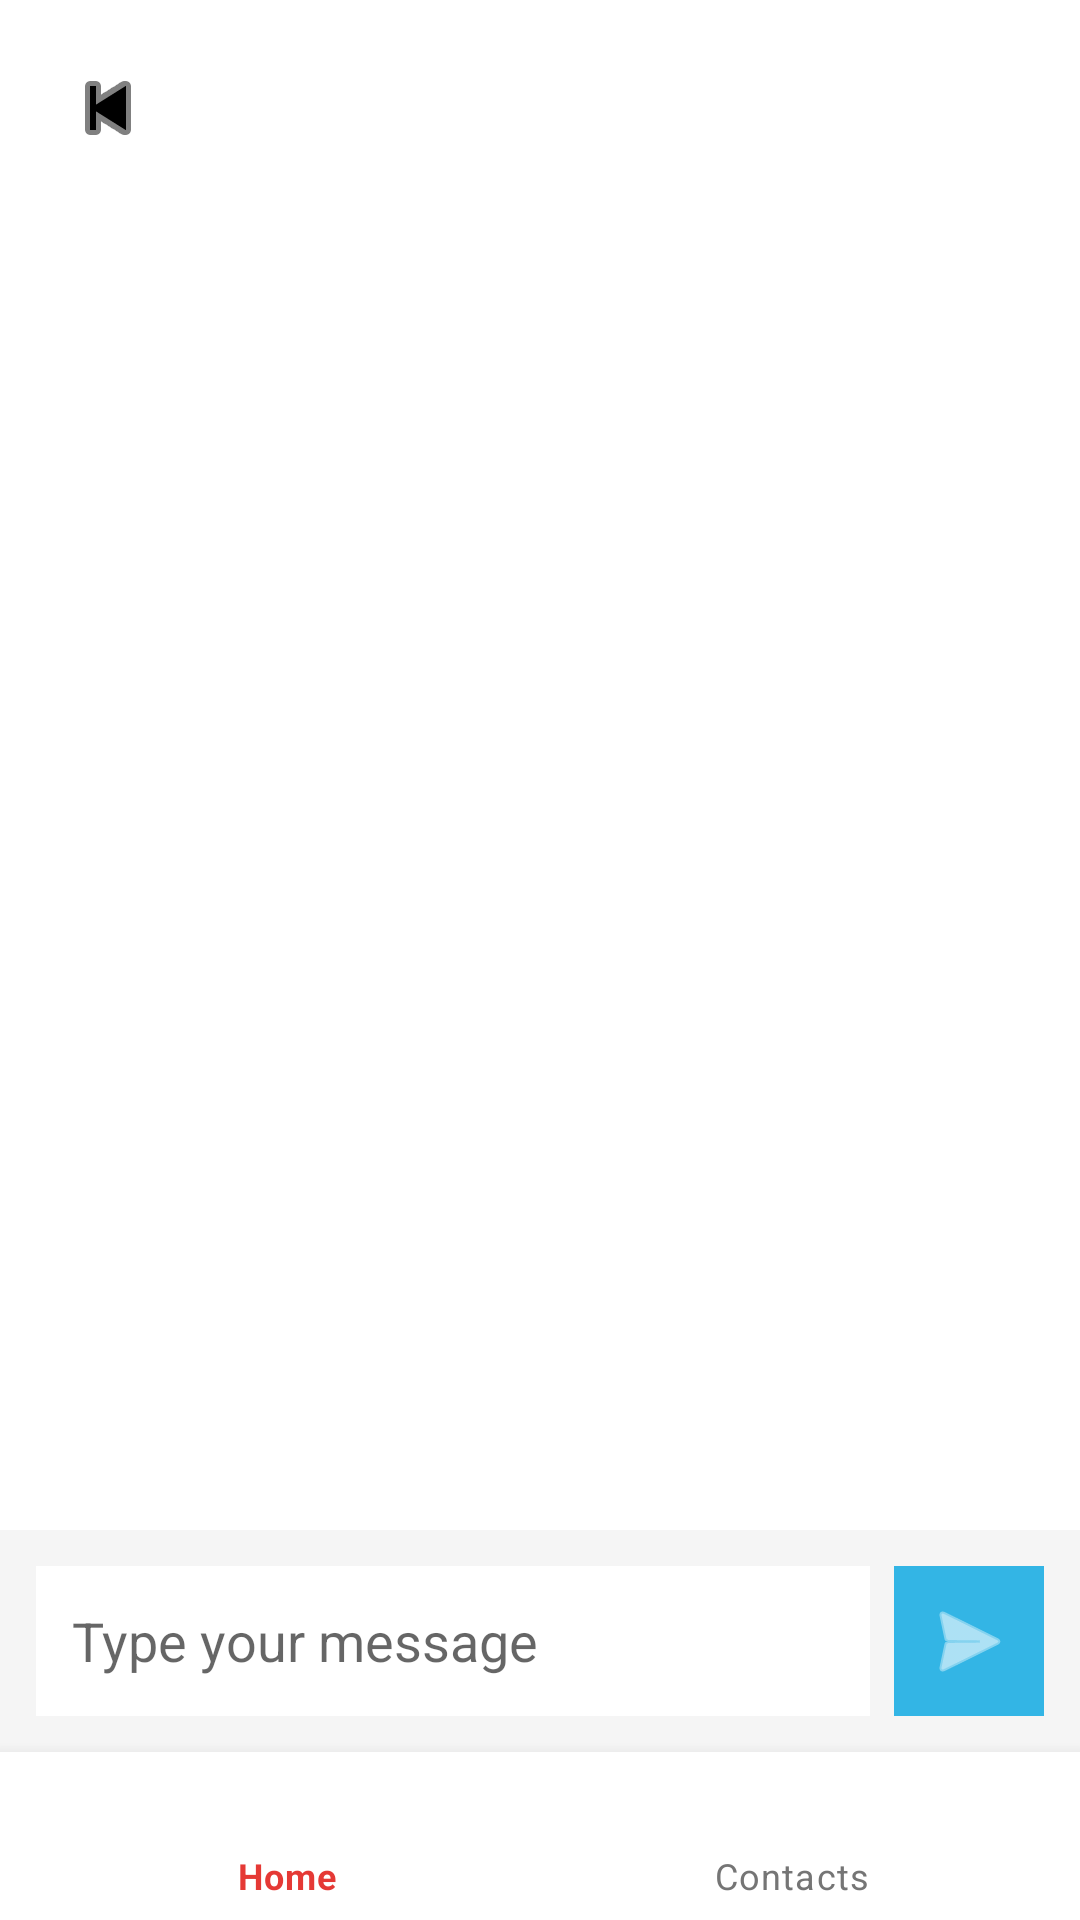

Named icons in this screenshot (1080 × 1920) and their centers, [x,y]:
Back: [108,108]
send: [969,1641]
